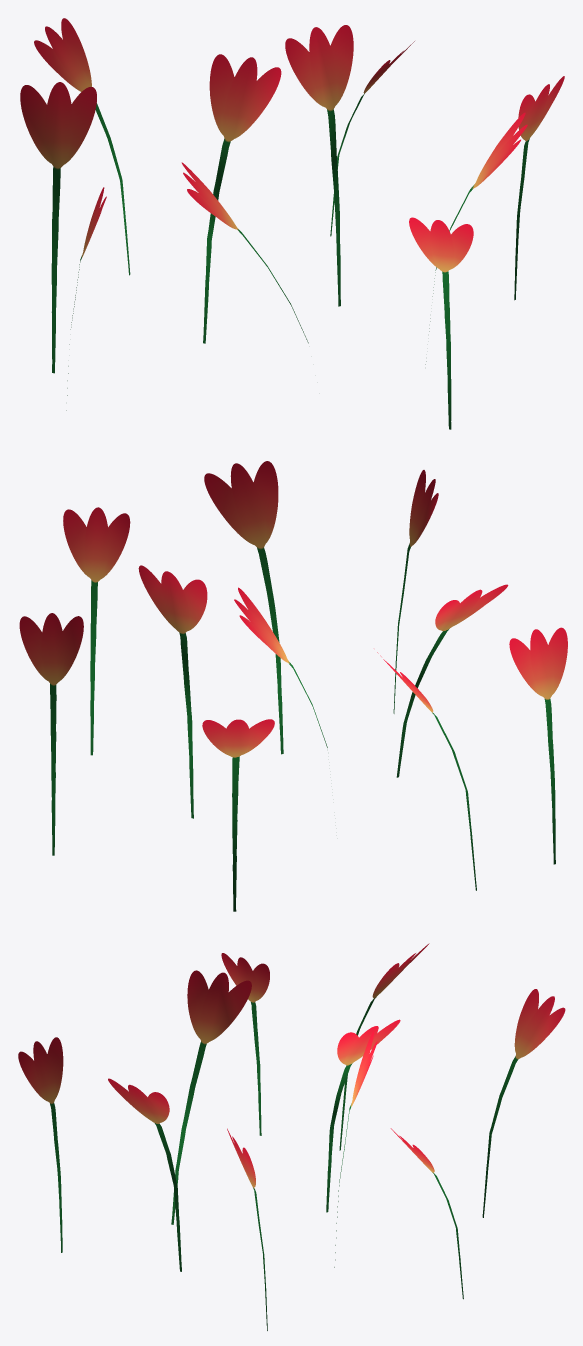
The model's file is Flower_Red.fbx.
The picture shows the model from 3 angles, top to bottom: view 1: azimuth 30°, elevation 25°; view 2: azimuth 150°, elevation 25°; view 3: azimuth 270°, elevation 25°; orthographic projection. The views are drawn at different scales.
Visible parts, largest first — view 1: Flower_Red; view 2: Flower_Red; view 3: Flower_Red.
Boxes of the visible parts, x1=… form: Flower_Red: x1=20, y1=18, x2=564, y2=429; Flower_Red: x1=19, y1=461, x2=567, y2=911; Flower_Red: x1=18, y1=943, x2=565, y2=1330.
Size of the model in its own units: 1.74 by 0.8892 by 1.91.
